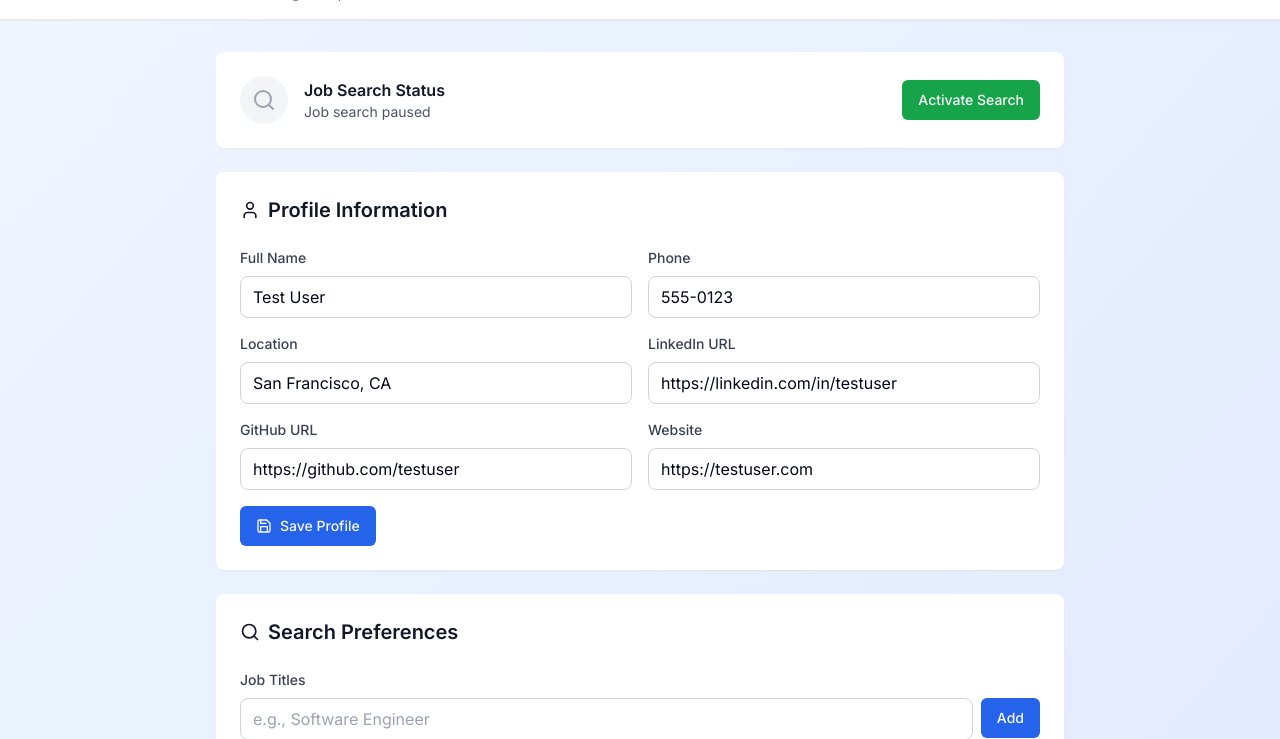
Test: SettingsPage › Profile Management › updates profile information
Replace the text in the field showing "Test User" below "Full Name" with "Updated Name". click: x=436, y=297
box: 240,276 -> 632,318
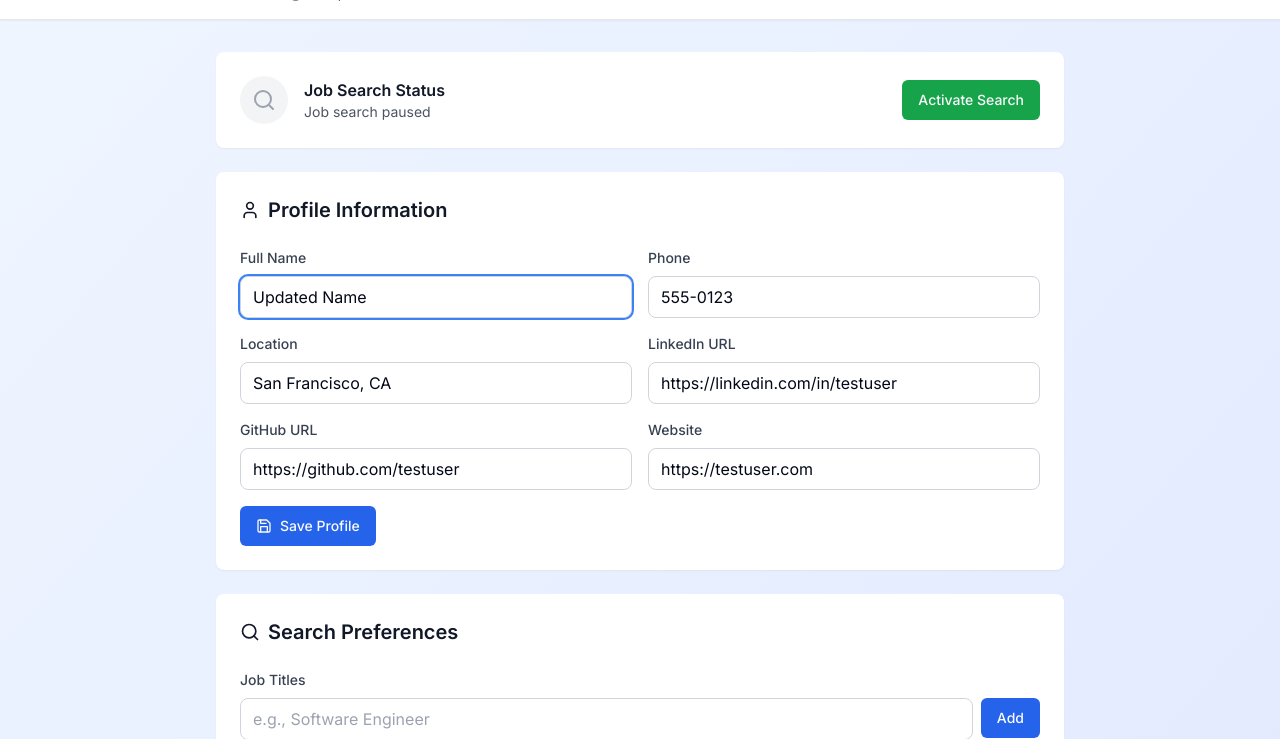
Click the button "Save Profile". click: x=308, y=526
box: 240,506 -> 376,546
(page scrolled)
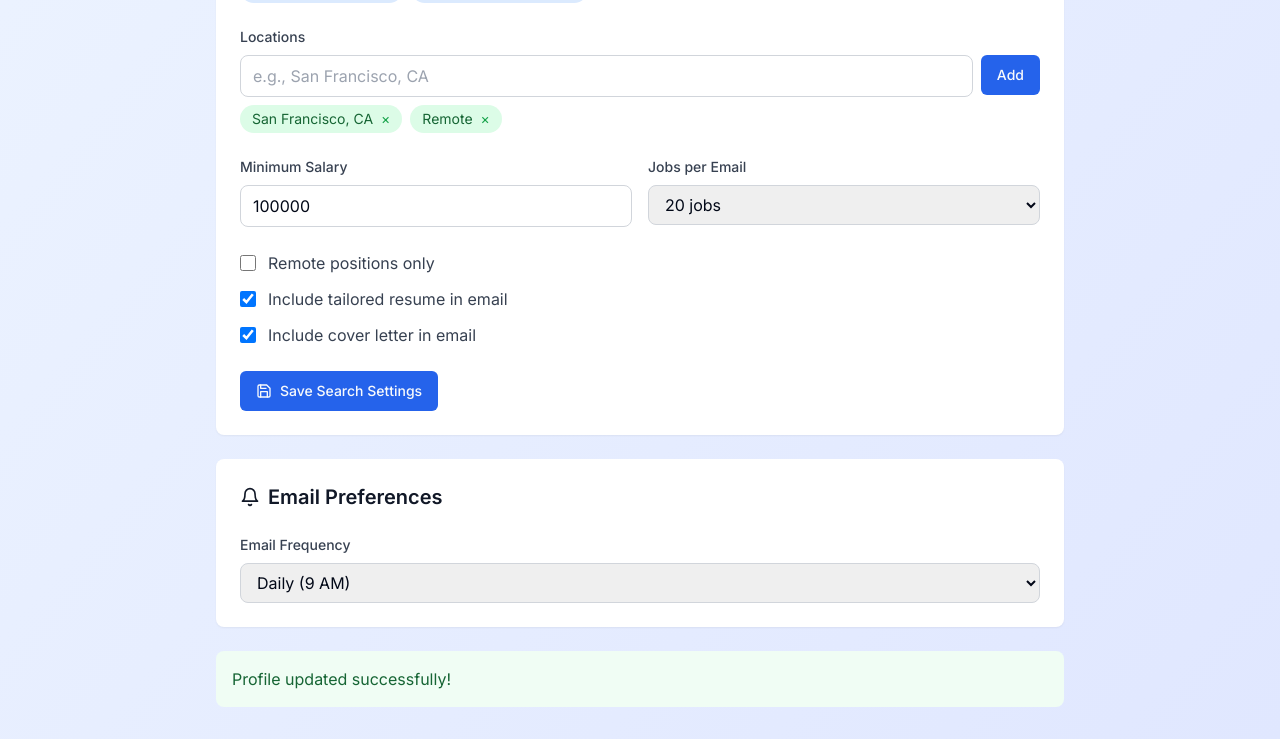
Result: the text "Profile updated successfully!" is shown at 216,651 -> 1064,707
